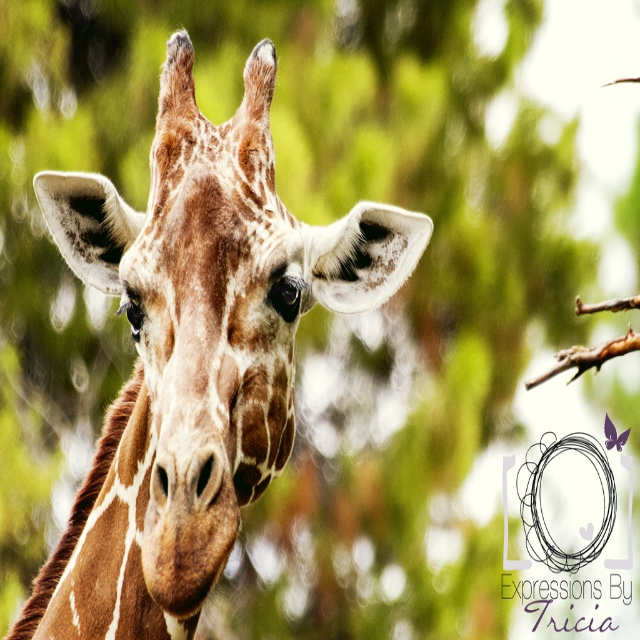Giraffe: (0, 22, 436, 639)
